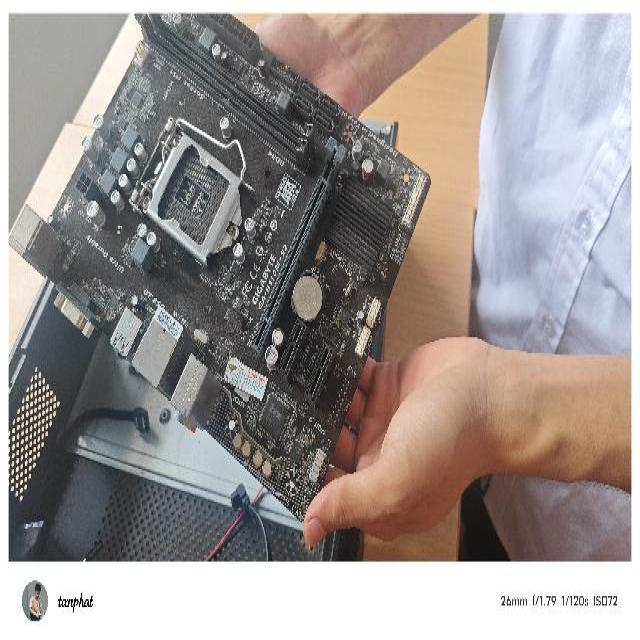Mainboard: (8, 12, 431, 528)
